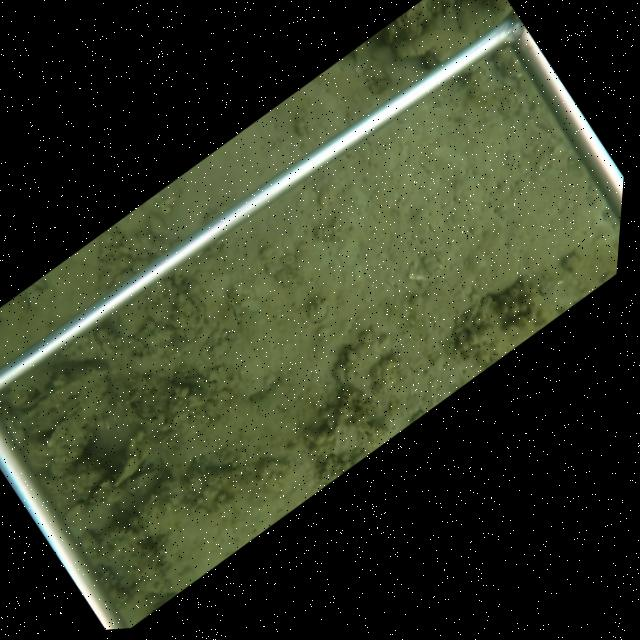Oyster-Closed: (86, 324, 118, 363), (224, 285, 245, 333), (178, 371, 212, 384)
Oyster-Indeterminate: (64, 463, 171, 542), (45, 381, 109, 480)
Oyster-Open: (13, 383, 66, 424)
